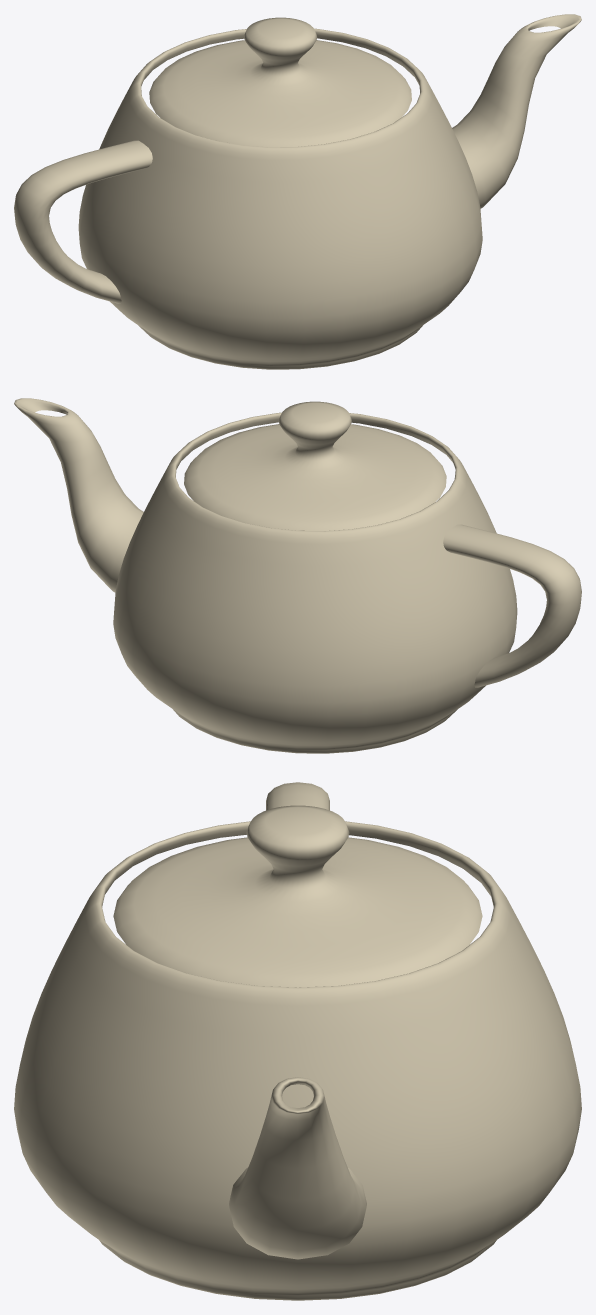
File: Teapot.gltf
3 renders of one model, top to bottom at view 1: azimuth 30°, elevation 25°; view 2: azimuth 150°, elevation 25°; view 3: azimuth 270°, elevation 25°, orthographic. The views are drawn at different scales.
Visible parts, largest first — view 1: Teapot; view 2: Teapot; view 3: Teapot.
Part boxes in pixels (x1,y1,x2,y2): Teapot: [14, 14, 581, 369]; Teapot: [14, 398, 581, 753]; Teapot: [14, 782, 581, 1300].
Bounding box in the file's own units: 1.13 × 0.5525 × 0.7015.
